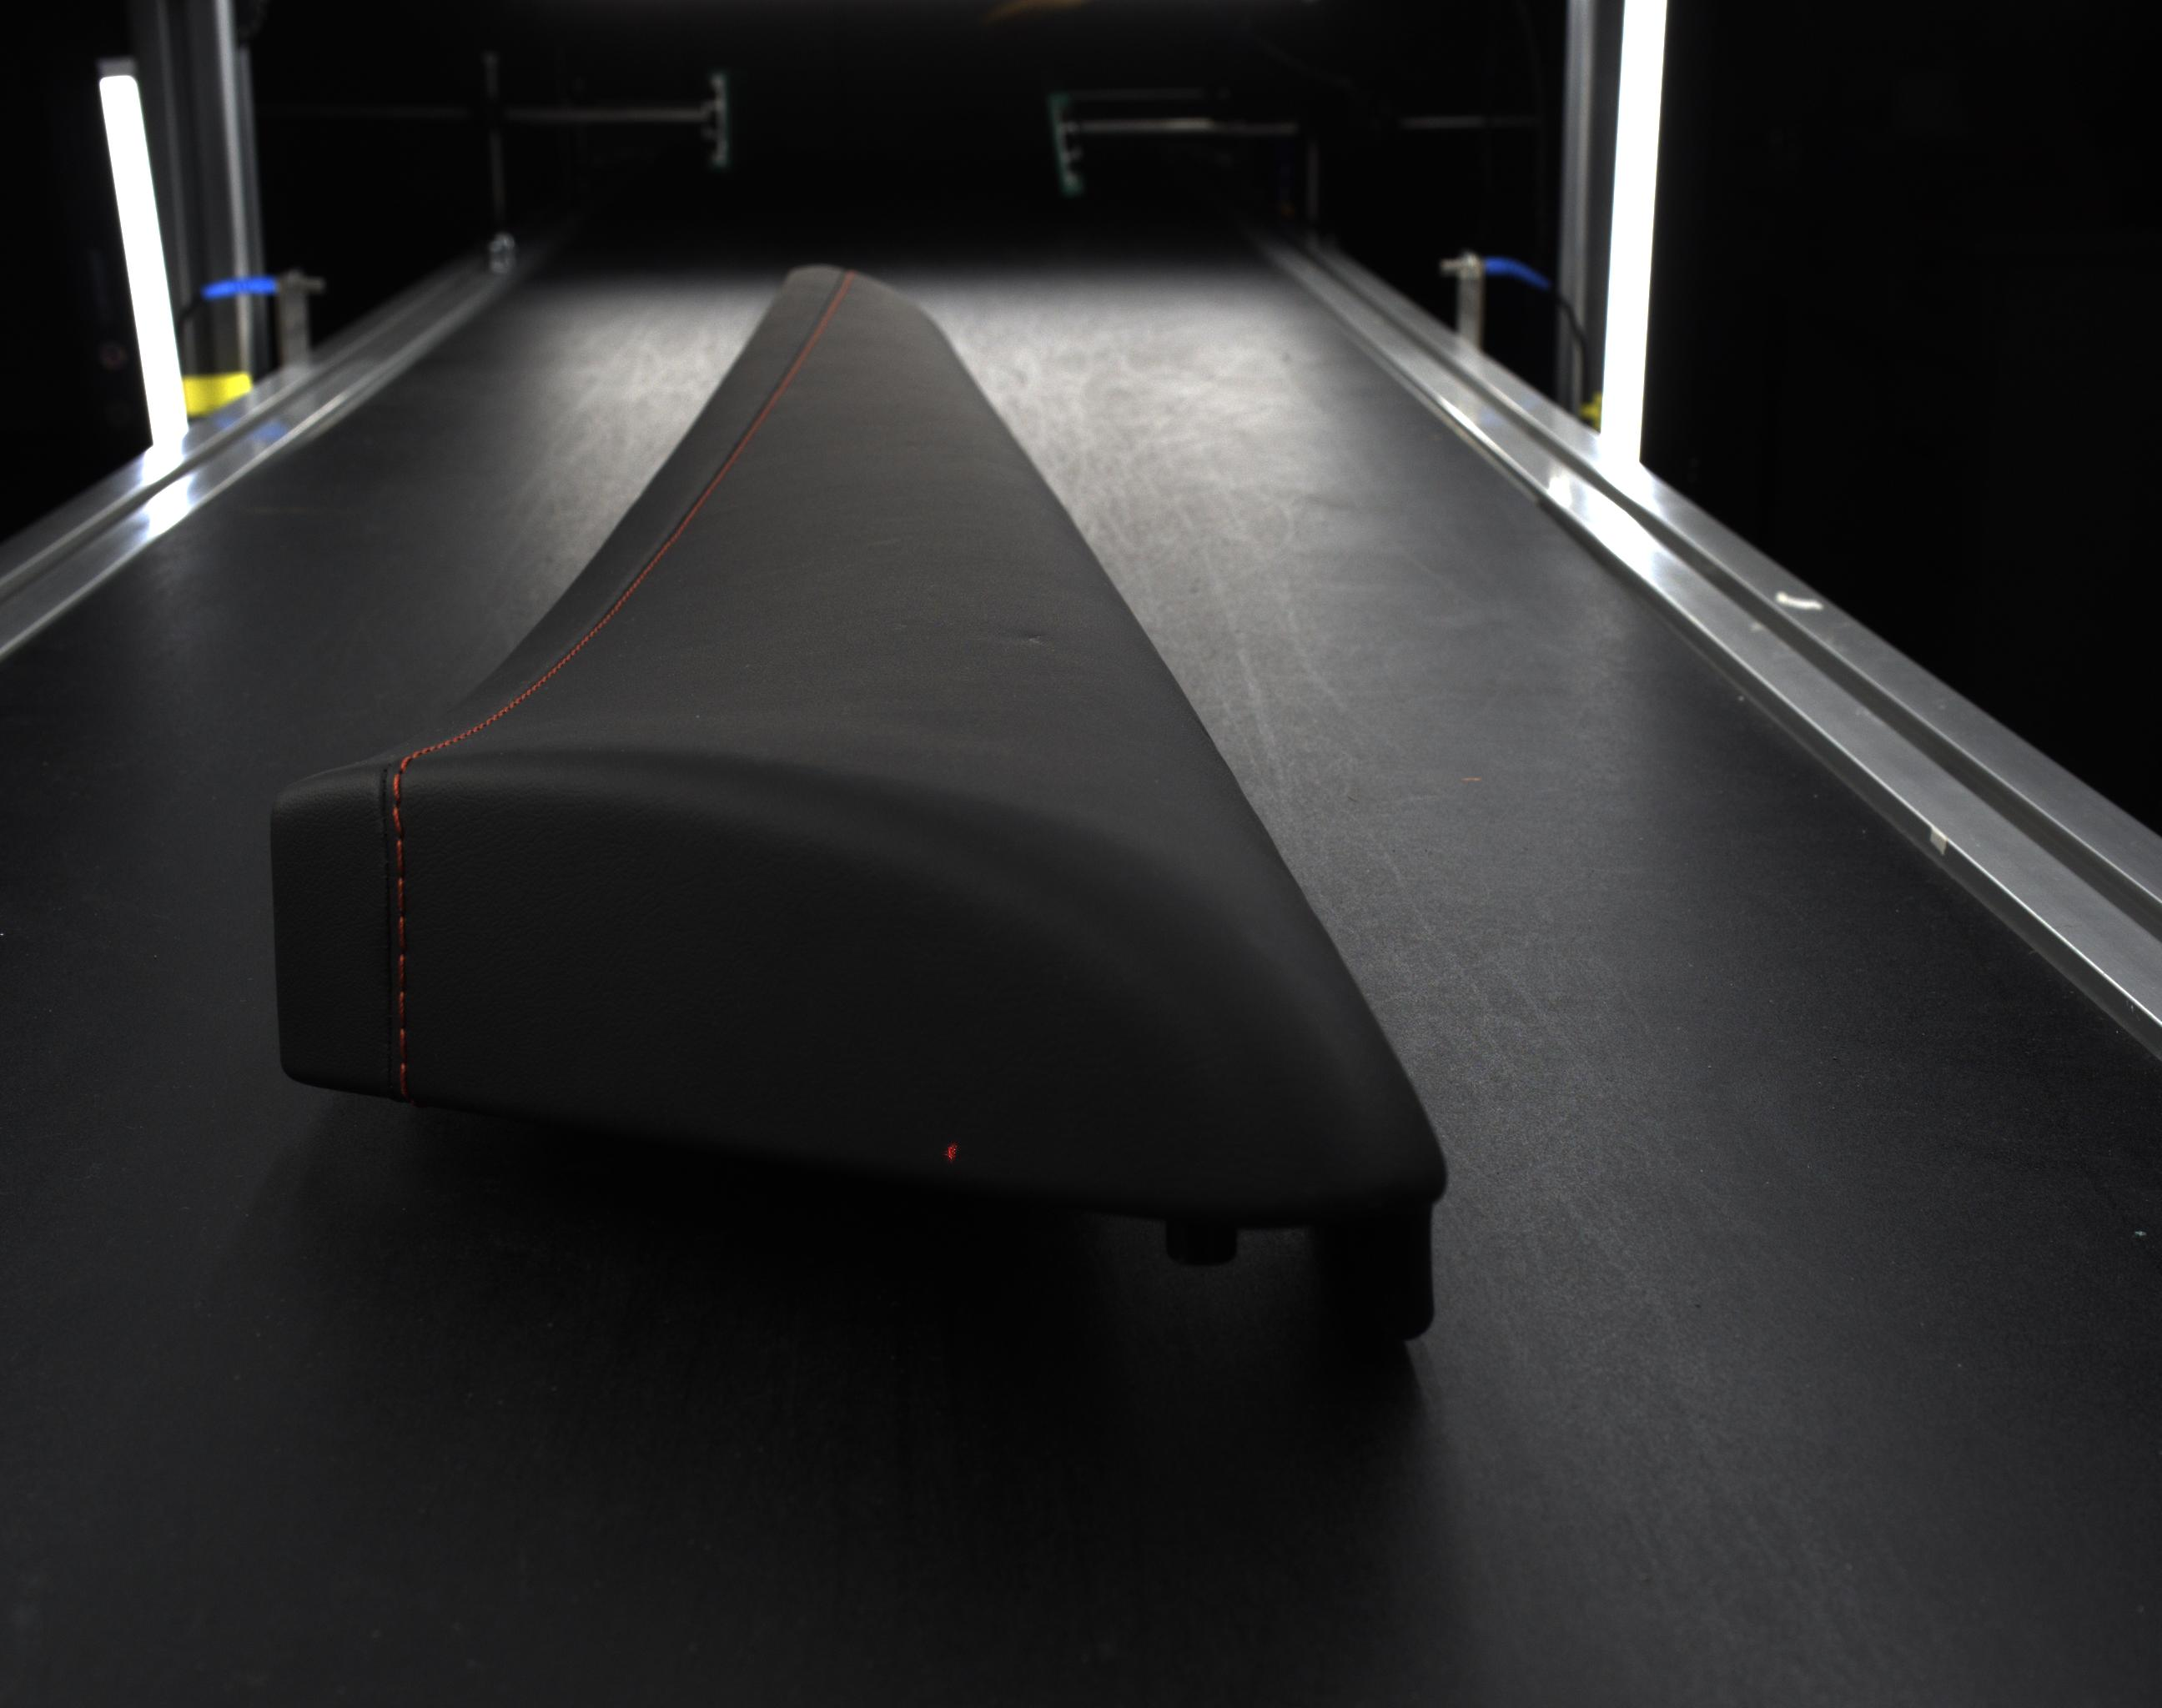vline: (397, 1064, 409, 1099), (393, 876, 405, 906), (395, 839, 405, 872), (397, 916, 407, 950), (391, 772, 402, 802), (397, 1027, 407, 1057), (395, 955, 407, 980), (391, 807, 402, 834), (395, 994, 405, 1020)
